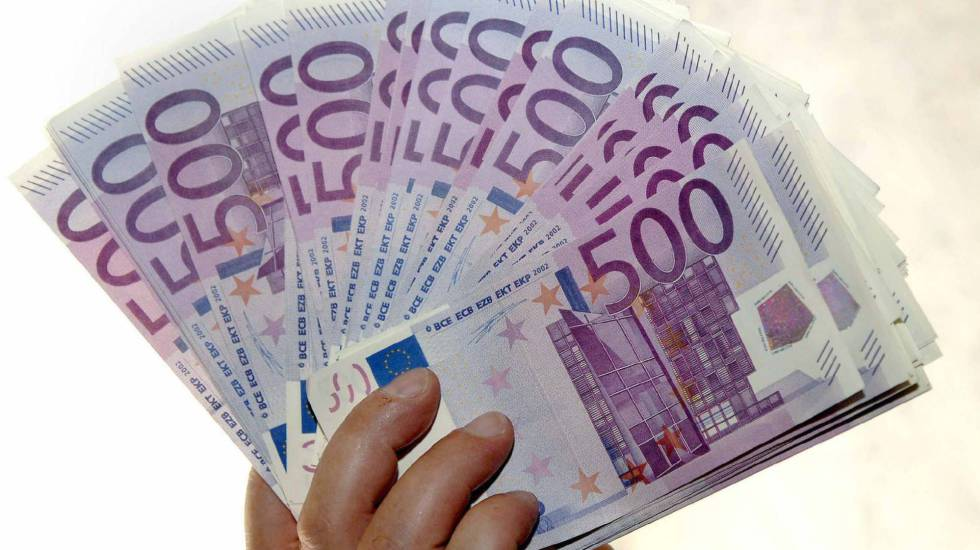billete: (5, 1, 951, 549)
